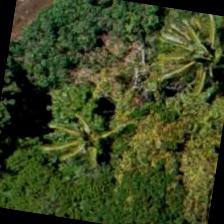Kelapa_Sawit: (52, 88, 155, 192), (48, 95, 151, 198), (155, 7, 223, 92)
